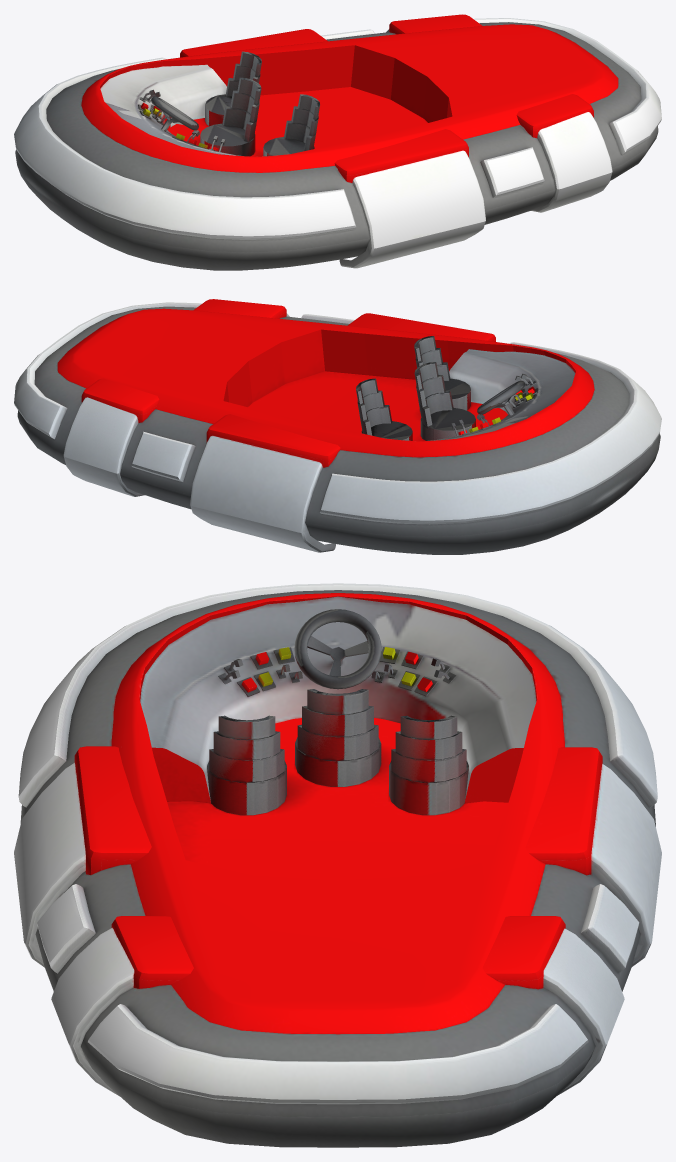
File: boat_part1.FBX
3 renders of one model, top to bottom at view 1: azimuth 30°, elevation 25°; view 2: azimuth 150°, elevation 25°; view 3: azimuth 270°, elevation 25°, orthographic. The views are drawn at different scales.
Parts seen in each view (by area): view 1: transform_hovercraft_RIG:hover003; view 2: transform_hovercraft_RIG:hover003; view 3: transform_hovercraft_RIG:hover003.
Boxes of the visible parts, <box> form: transform_hovercraft_RIG:hover003: <box>14,14,661,270</box>; transform_hovercraft_RIG:hover003: <box>14,299,661,554</box>; transform_hovercraft_RIG:hover003: <box>14,583,661,1147</box>.
Size of the model in its own units: 58.01 by 13.58 by 36.
Materials: 1 (1 with a texture image).
